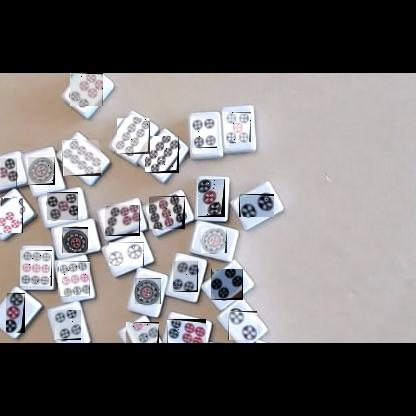1p: (28, 157, 55, 185), (62, 227, 88, 253), (135, 278, 161, 304), (201, 228, 227, 253)
2p: (228, 311, 257, 340), (109, 242, 144, 266), (239, 194, 274, 217)
3p: (198, 179, 225, 217), (6, 293, 25, 333)
4p: (211, 269, 243, 300), (54, 310, 81, 340), (173, 261, 198, 292), (192, 119, 217, 148)
5p: (47, 192, 78, 220), (225, 112, 251, 142), (0, 158, 17, 187)
6p: (70, 73, 103, 106), (167, 319, 206, 343), (126, 322, 159, 343)
7p: (105, 205, 140, 236), (0, 197, 23, 233)
8p: (62, 140, 101, 176), (145, 136, 179, 173), (117, 118, 150, 154)
9p: (149, 196, 185, 229), (20, 250, 52, 286), (58, 261, 90, 296)
